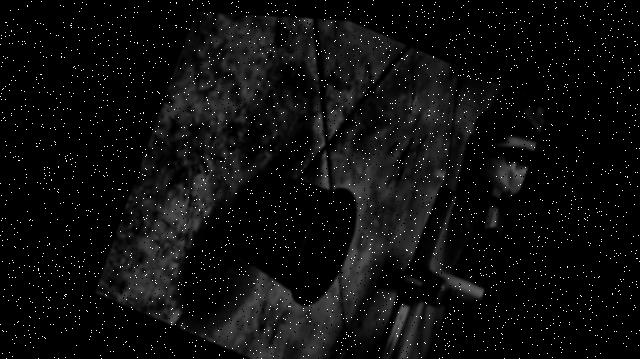pot: (229, 171, 356, 304)
